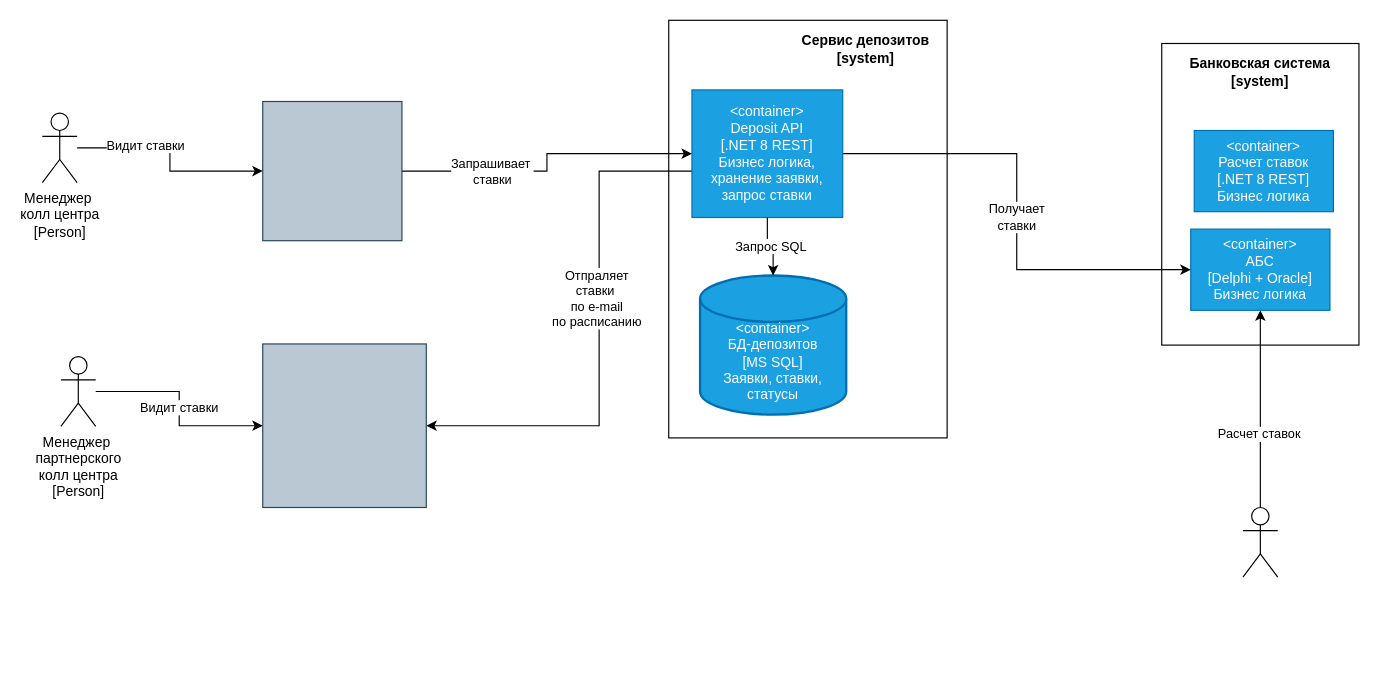
The diagram is 1379 pixels wide and 673 high, and some of its shapes have lost their labels. The shapes that lost their labels are listed below. From the top down, each one's box as (x1, y1, x2, y2) in pixels, then its label:
(262, 100, 402, 241): <External> Система колл-центра [Java Spring Boot] Обработка звонков и обращений
(262, 343, 426, 507): <External> Система партнерского колл-центра [??] Обработка звонков и обращений
(1242, 506, 1278, 577): Менеджер Бэк офиса [Person]
